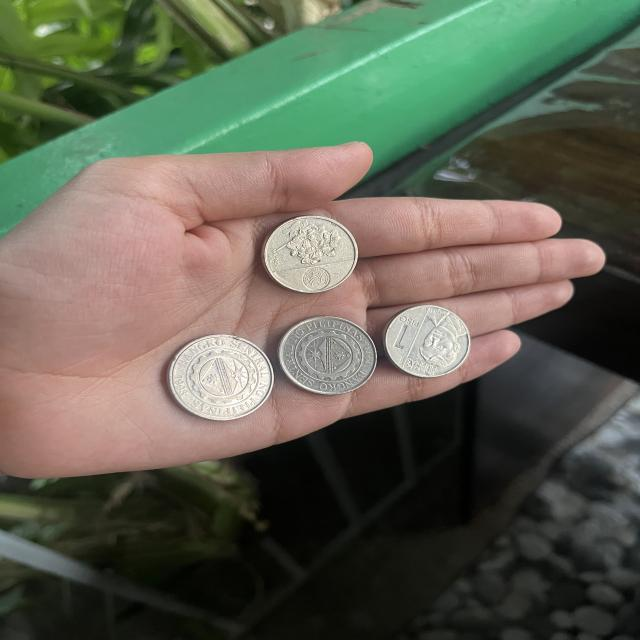1_New_Back: (274, 218, 350, 266)
1_New_Front: (394, 313, 425, 352)
1_Old_Back: (166, 333, 274, 420), (279, 316, 375, 394)
